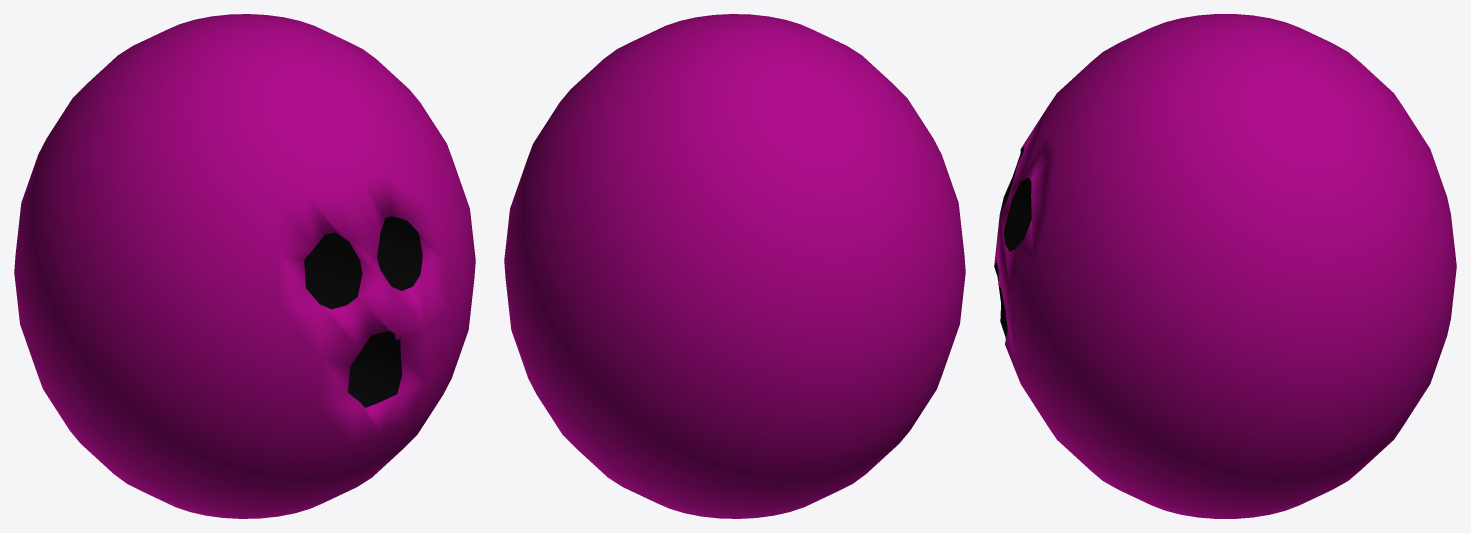
File: BBall.fbx
3 renders of one model, left to right at view 1: azimuth 30°, elevation 25°; view 2: azimuth 150°, elevation 25°; view 3: azimuth 270°, elevation 25°, orthographic.
Visible parts, largest first — view 1: Sphere; view 2: Sphere; view 3: Sphere.
Part boxes in pixels (left/top/right/bottom): Sphere: left=14, top=14, right=475, bottom=518; Sphere: left=504, top=14, right=965, bottom=518; Sphere: left=994, top=14, right=1456, bottom=518.
Size of the model in its own units: 179 by 200 by 180.
